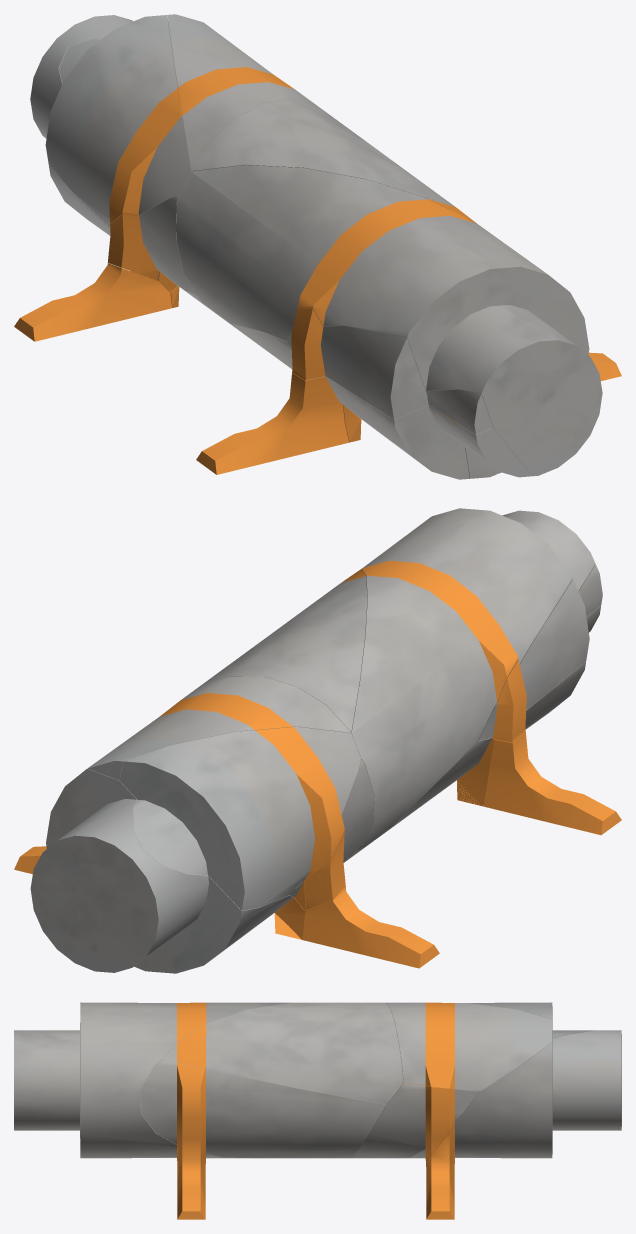
Rendered from Broke_Corridor_POS.fbx.
3 views of the same model, one above another, from view 1: azimuth 30°, elevation 25°; view 2: azimuth 150°, elevation 25°; view 3: azimuth 270°, elevation 25° (orthographic). The views are drawn at different scales.
Visible parts, largest first — view 1: corridor_POS8, corridor_POS15, corridor_POS5, corridor_POS4, corridor_POS16, corridor_POS10, corridor_POS3, corridor_POS12, corridor_POS13, corridor_POS7; view 2: corridor_POS8, corridor_POS15, corridor_POS13, corridor_POS16, corridor_POS10, corridor_POS4, corridor_POS5, corridor_POS3, corridor_POS12, corridor_POS7; view 3: corridor_POS8, corridor_POS11, corridor_POS13, corridor_POS16, corridor_POS10, corridor_POS2, corridor_POS15.
Boxes of the visible parts, <box> form: corridor_POS8: <box>176,165,602,476</box>; corridor_POS15: <box>45,15,191,226</box>; corridor_POS5: <box>196,373,531,479</box>; corridor_POS4: <box>287,308,492,434</box>; corridor_POS16: <box>192,98,475,222</box>; corridor_POS10: <box>167,14,313,171</box>; corridor_POS3: <box>14,263,219,341</box>; corridor_POS12: <box>108,195,195,293</box>; corridor_POS13: <box>30,15,179,307</box>; corridor_POS7: <box>232,324,496,478</box>; corridor_POS8: <box>348,508,595,859</box>; corridor_POS15: <box>119,726,360,910</box>; corridor_POS13: <box>14,769,304,973</box>; corridor_POS16: <box>200,569,367,732</box>; corridor_POS10: <box>87,676,351,780</box>; corridor_POS4: <box>479,564,602,742</box>; corridor_POS5: <box>483,606,621,835</box>; corridor_POS3: <box>302,844,439,968</box>; corridor_POS12: <box>304,759,374,909</box>; corridor_POS7: <box>375,737,494,839</box>; corridor_POS8: <box>14,1002,291,1180</box>; corridor_POS11: <box>141,1059,385,1219</box>; corridor_POS13: <box>403,1030,621,1219</box>; corridor_POS16: <box>163,1002,403,1104</box>; corridor_POS10: <box>386,1002,552,1091</box>; corridor_POS2: <box>348,1082,478,1158</box>; corridor_POS15: <box>470,1002,593,1037</box>.
Bounding box in the file's own units: 27.84 × 13.67 × 52.85.
